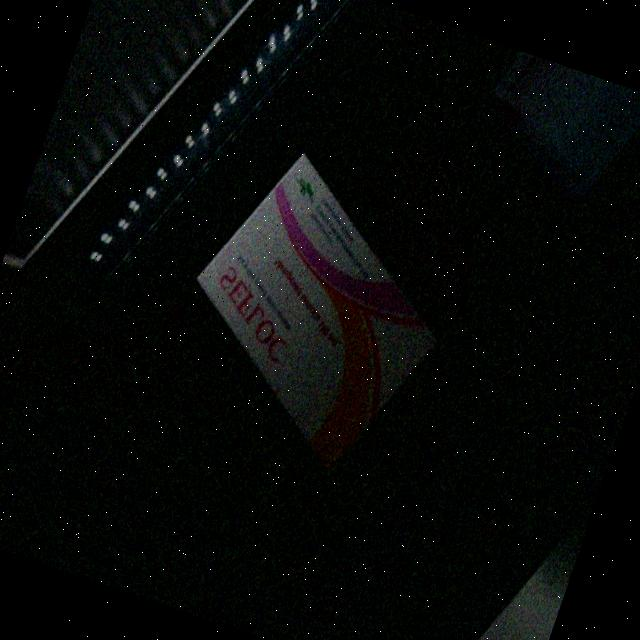medicine_name_detection: (152, 135, 479, 484)
